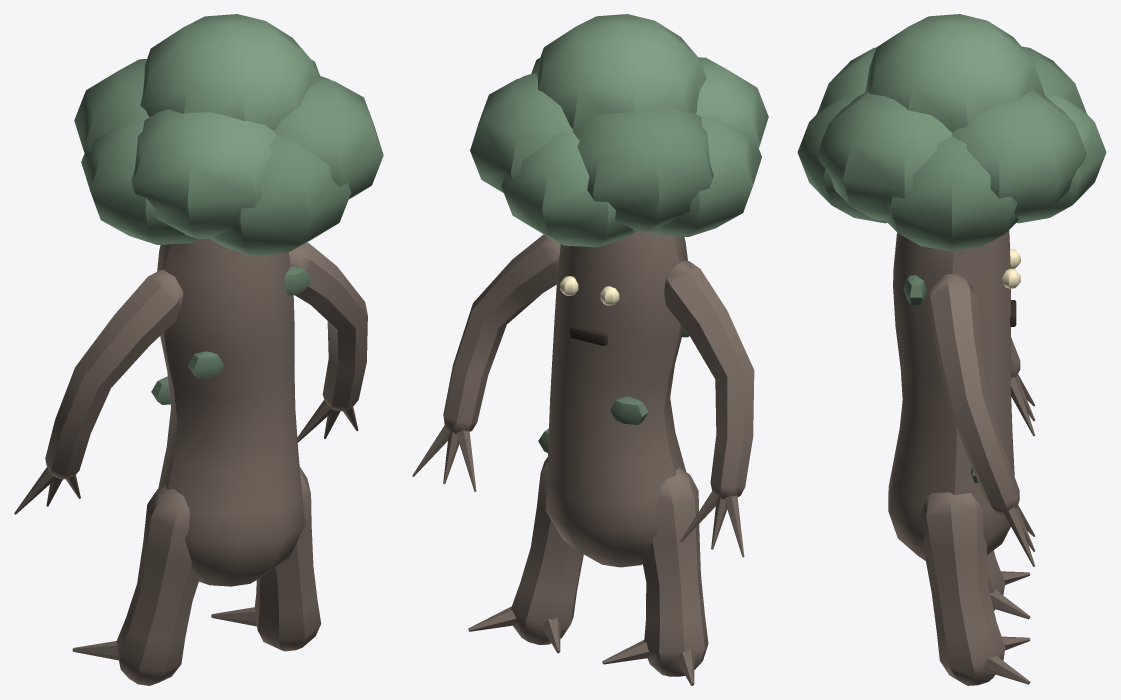
Rendered from rootmother.gltf.
The picture shows the model from 3 angles, left to right: view 1: azimuth 30°, elevation 25°; view 2: azimuth 150°, elevation 25°; view 3: azimuth 270°, elevation 25°; orthographic projection. The views are drawn at different scales.
Parts seen in each view (by area): view 1: Body, SwingA, ArmL, ArmR, SwingB; view 2: Body, ArmL, SwingA, ArmR, SwingB; view 3: Body, SwingB, ArmR, SwingA, ArmL.
Boxes of the visible parts, x1,y1,x2,y2 form: Body: (74, 14, 383, 586); SwingA: (72, 485, 199, 685); ArmL: (14, 269, 183, 514); ArmR: (289, 242, 367, 442); SwingB: (211, 466, 321, 651); Body: (470, 14, 768, 567); ArmL: (664, 260, 754, 557); SwingA: (602, 467, 708, 685); ArmR: (412, 234, 560, 491); SwingB: (468, 457, 583, 653); Body: (797, 14, 1106, 560); SwingB: (921, 492, 1030, 685); ArmR: (928, 274, 1035, 566); SwingA: (987, 550, 1030, 619); ArmL: (1011, 337, 1035, 436).
Size of the model in its own units: 1.49 by 2.68 by 1.2.
